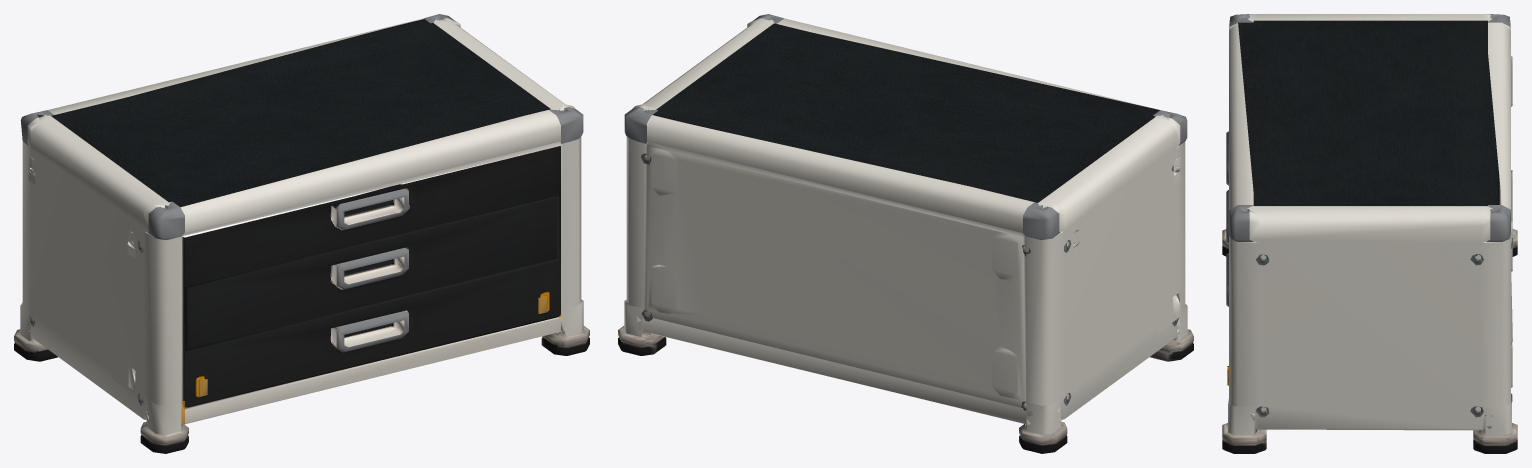
Rendered from storage-cabinet.glb.
The picture shows the model from 3 angles, left to right: view 1: azimuth 30°, elevation 25°; view 2: azimuth 150°, elevation 25°; view 3: azimuth 270°, elevation 25°; orthographic projection.
Parts seen in each view (by area): view 1: storage-cabinet (×3); view 2: storage-cabinet (×3); view 3: storage-cabinet (×3).
Boxes of the visible parts, <box> form: storage-cabinet (×3): <box>14,14,589,453</box>; storage-cabinet (×3): <box>618,14,1193,453</box>; storage-cabinet (×3): <box>1222,14,1517,453</box>.
Bounding box in the file's own units: 0.9644 × 0.4951 × 0.5643.
Materials: 5 (1 with a texture image).
